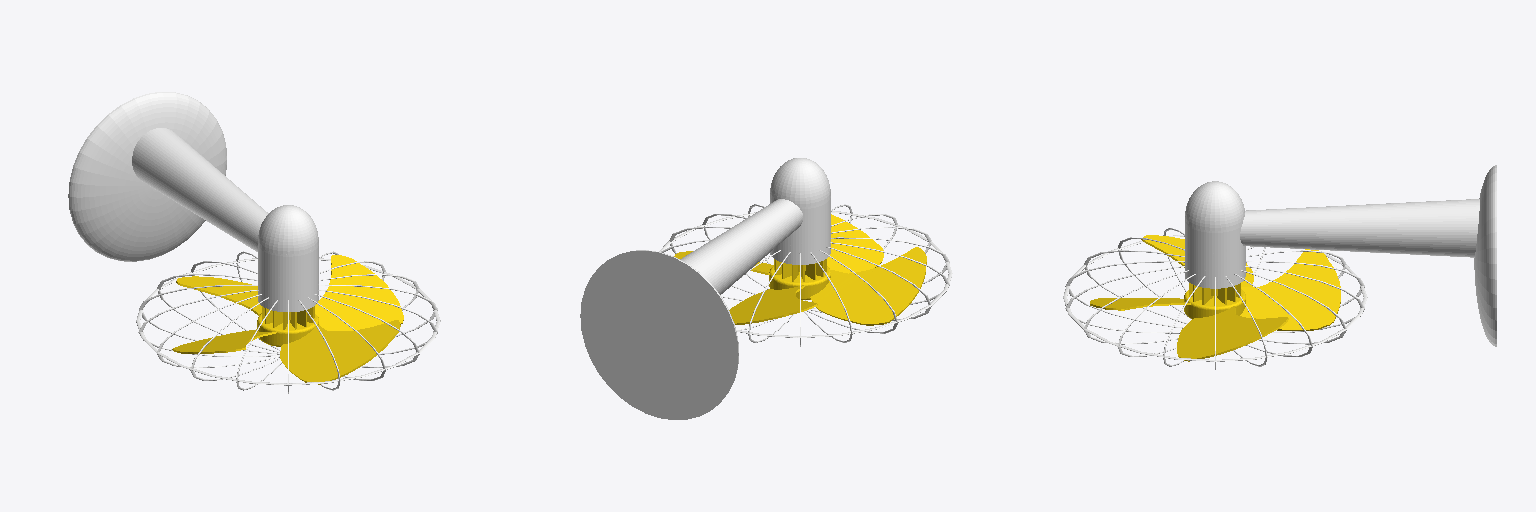
Rendered from fan.obj.
3 renders of one model, left to right at view 1: azimuth 30°, elevation 25°; view 2: azimuth 150°, elevation 25°; view 3: azimuth 270°, elevation 25°, orthographic.
Visible parts, largest first — view 1: obj_0; view 2: obj_0; view 3: obj_0.
Boxes of the visible parts, x1=… form: obj_0: x1=68, y1=92, x2=440, y2=393; obj_0: x1=580, y1=158, x2=952, y2=419; obj_0: x1=1063, y1=165, x2=1496, y2=369.
Size of the model in its own units: 40 by 24 by 57.